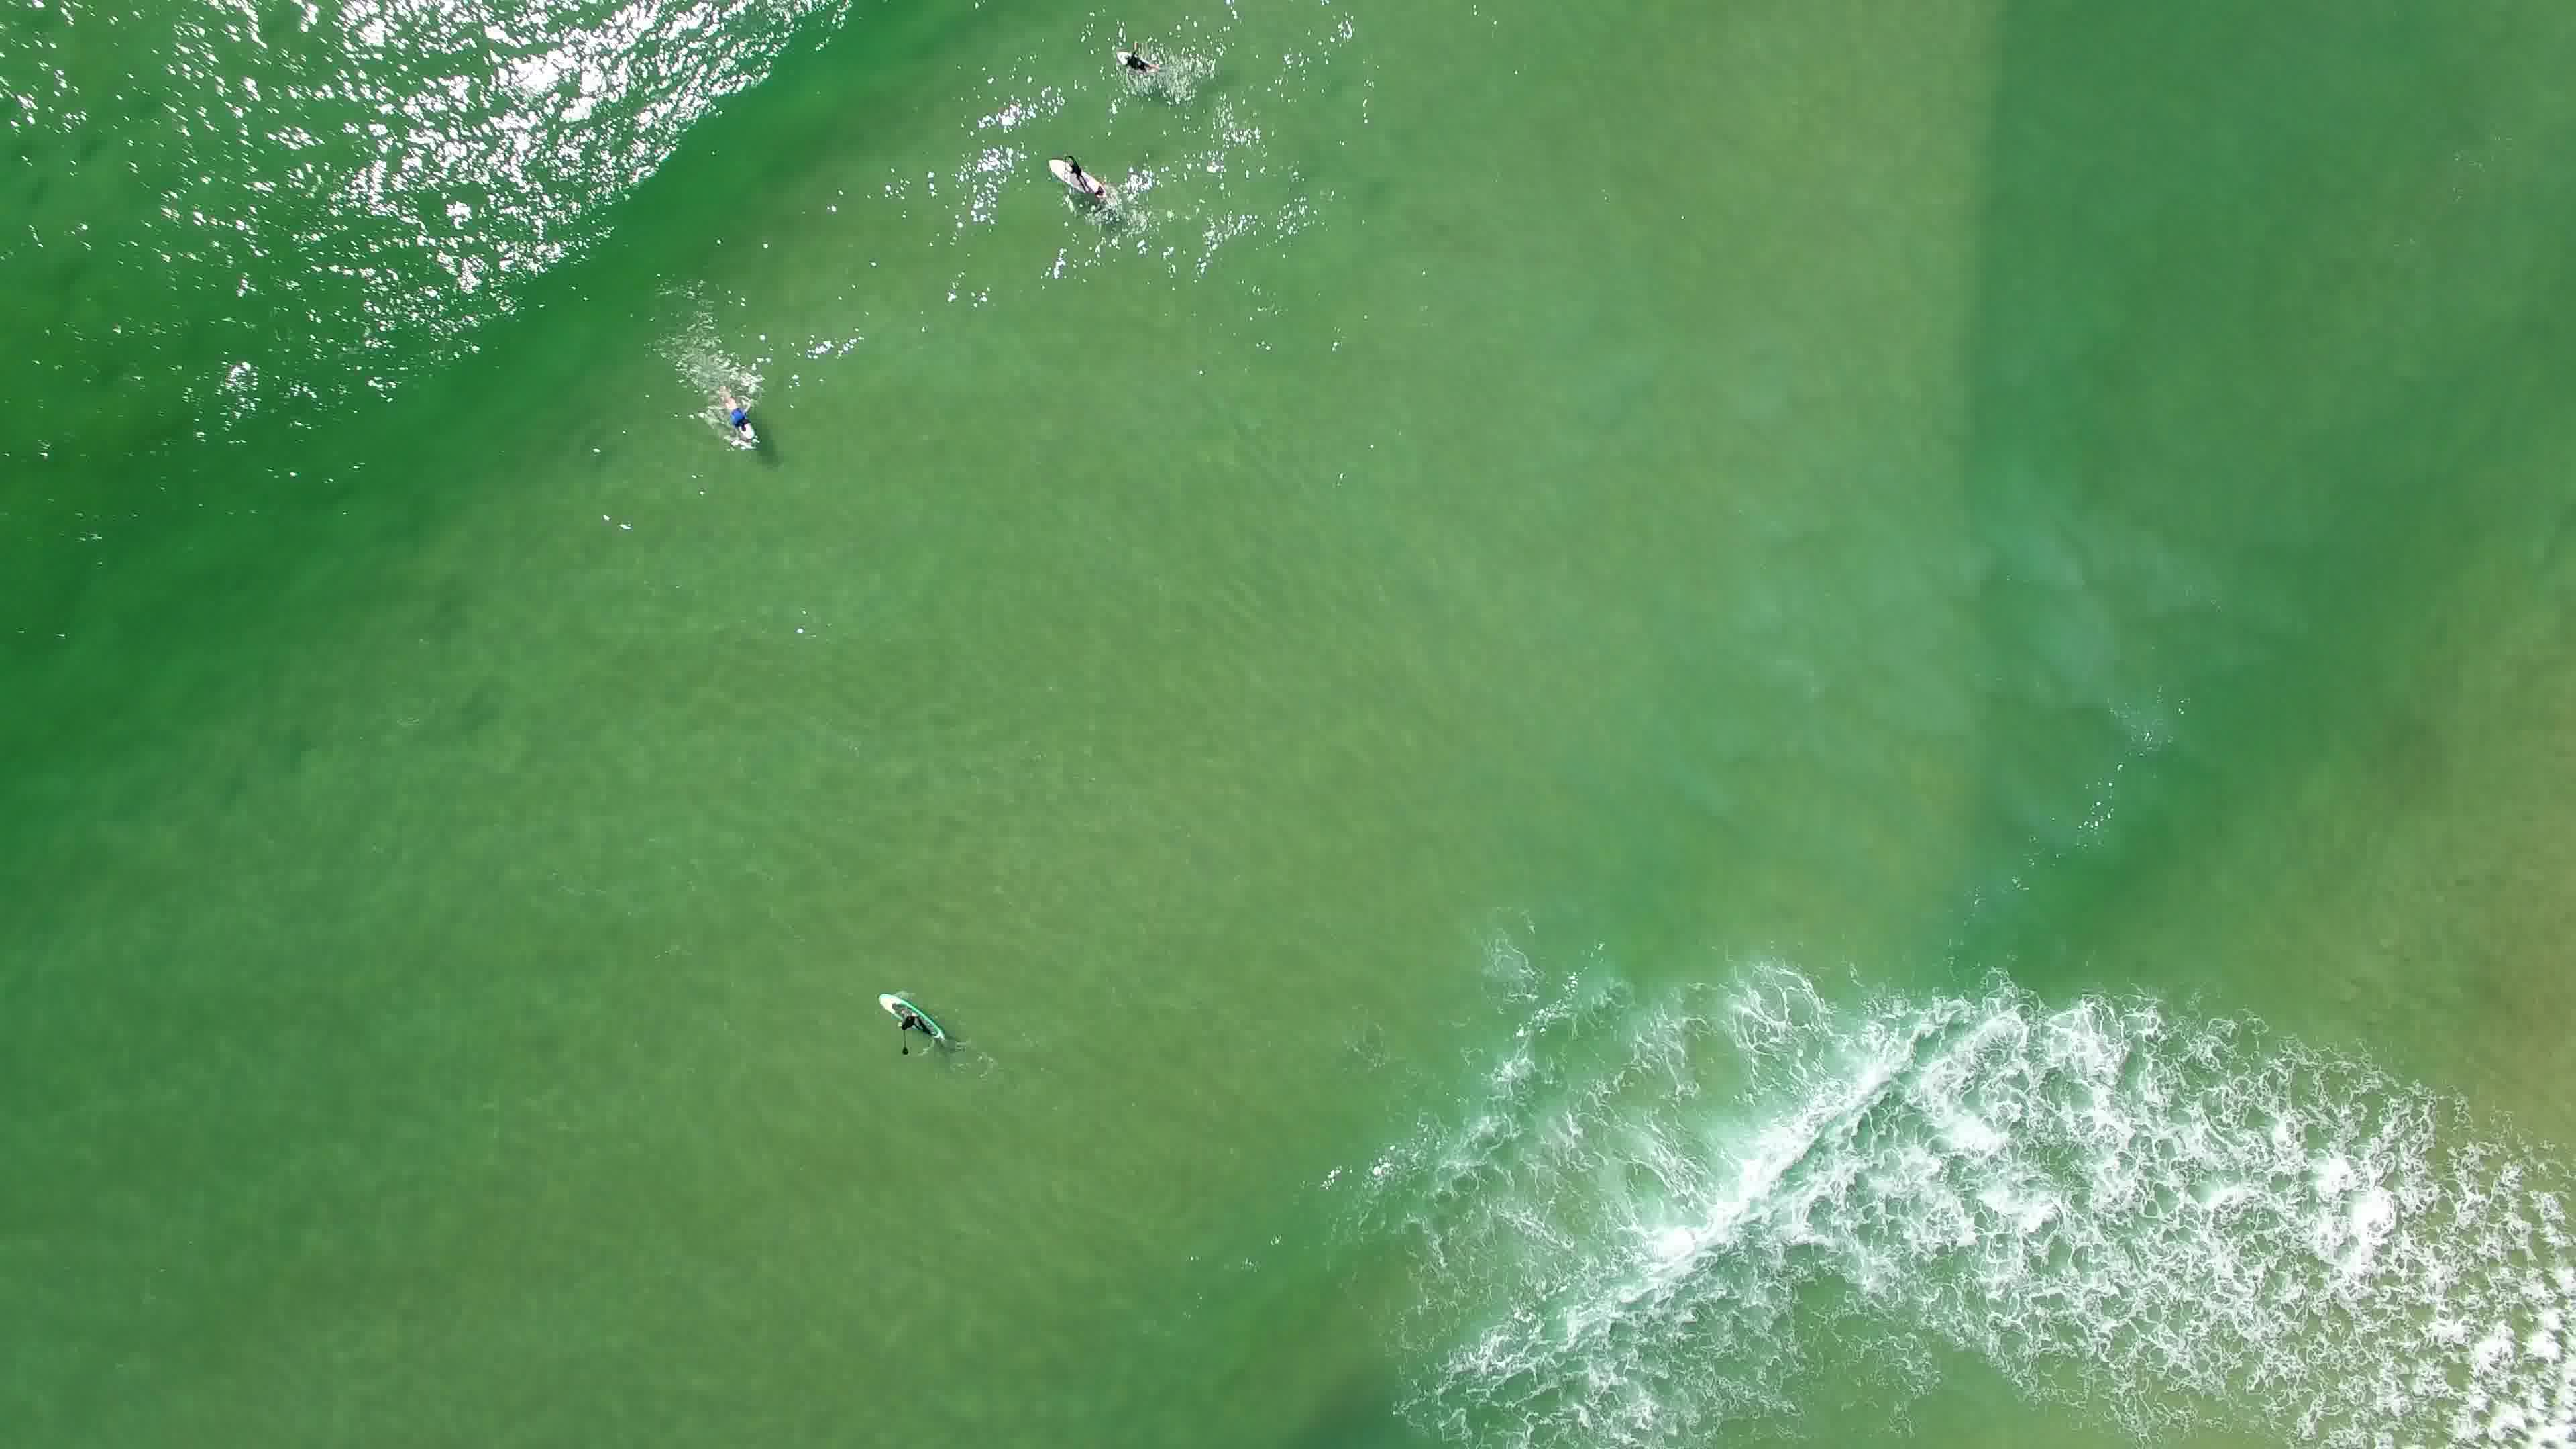surfer: (876, 985, 954, 1060), (1044, 147, 1111, 205), (711, 386, 773, 448), (1111, 44, 1173, 88)
